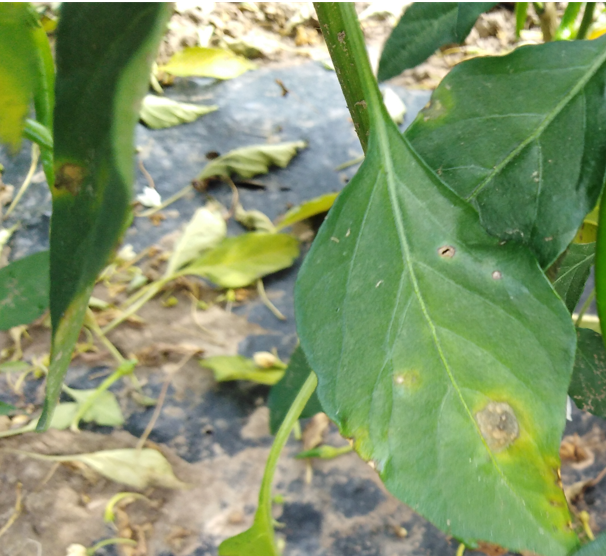Anthrax: (293, 145, 577, 556), (48, 152, 102, 208)
